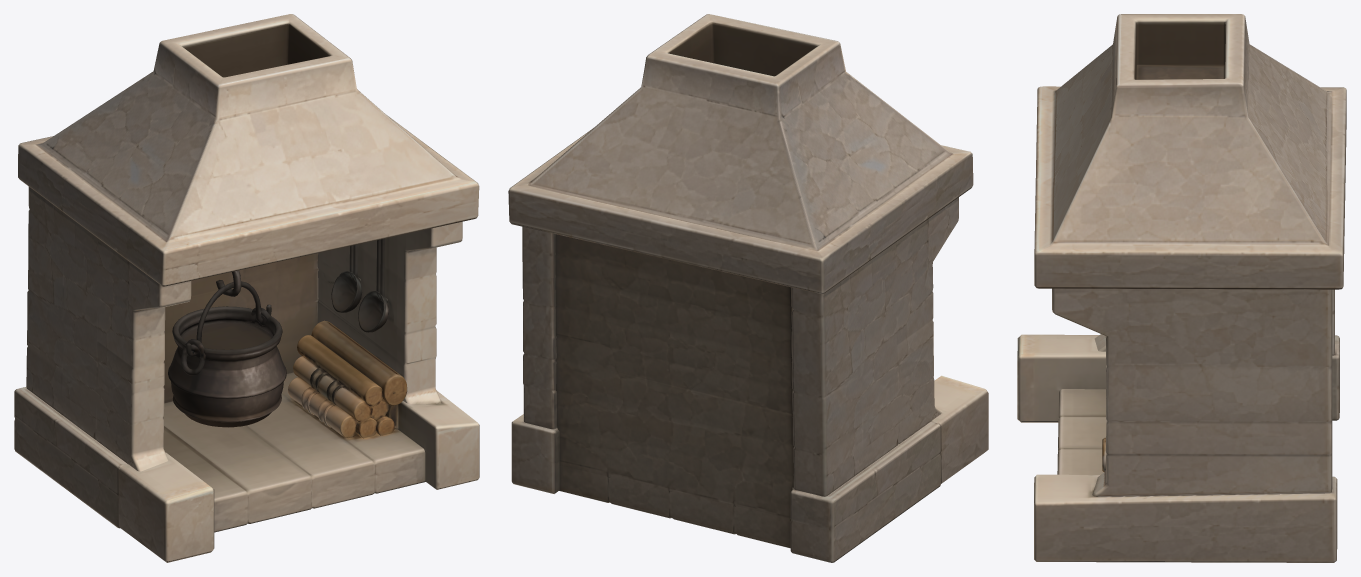
File: act1_kit_v1_kitchen_hearth.glb
3 views of the same model, side by side, from view 1: azimuth 30°, elevation 25°; view 2: azimuth 150°, elevation 25°; view 3: azimuth 270°, elevation 25° (orthographic). The views are drawn at different scales.
Visible parts, largest first — view 1: act1_kit_v1_kitchen_hearth; view 2: act1_kit_v1_kitchen_hearth; view 3: act1_kit_v1_kitchen_hearth.
Boxes of the visible parts, x1,y1,x2,y2 form: act1_kit_v1_kitchen_hearth: (14, 14, 479, 562); act1_kit_v1_kitchen_hearth: (508, 14, 988, 562); act1_kit_v1_kitchen_hearth: (1017, 14, 1346, 562).
Size of the model in its own units: 0.8099 by 1 by 0.6814.
1 material, 1 textured.
